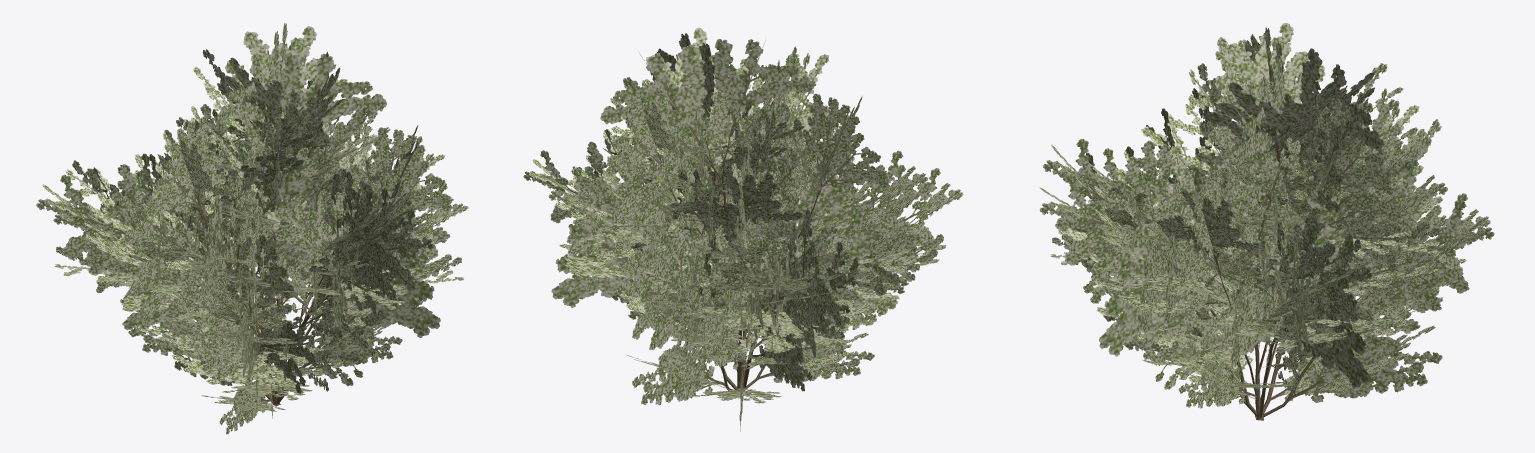
Rendered from CrataegusMonogyna.glb.
3 renders of one model, left to right at view 1: azimuth 30°, elevation 25°; view 2: azimuth 150°, elevation 25°; view 3: azimuth 270°, elevation 25°, orthographic. The views are drawn at different scales.
Parts seen in each view (by area): view 1: Common_Hawthorn__Realistic_LOD3; view 2: Common_Hawthorn__Realistic_LOD3; view 3: Common_Hawthorn__Realistic_LOD3.
Boxes of the visible parts, <box> form: Common_Hawthorn__Realistic_LOD3: <box>36,23,468,434</box>; Common_Hawthorn__Realistic_LOD3: <box>523,27,963,431</box>; Common_Hawthorn__Realistic_LOD3: <box>1039,23,1494,420</box>.
Bounding box in the file's own units: 7.05 × 6.61 × 7.25.
1 material, 1 textured.
